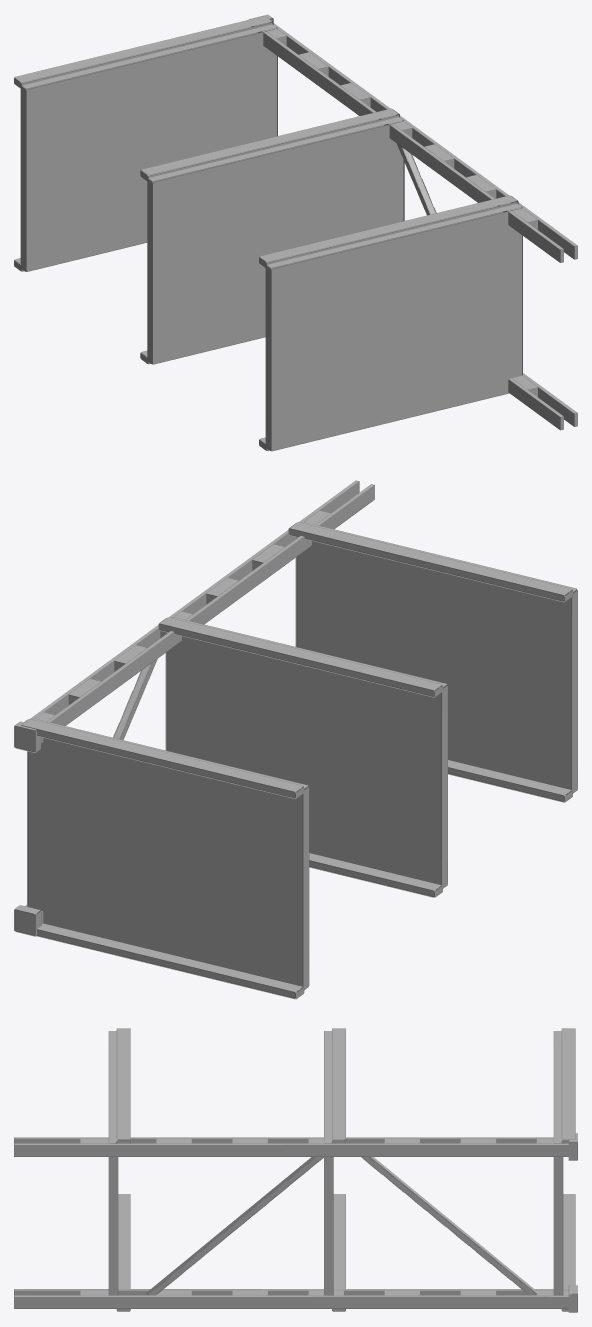
File: rack_right_empty.obj
3 views of the same model, one above another, from view 1: azimuth 30°, elevation 25°; view 2: azimuth 150°, elevation 25°; view 3: azimuth 270°, elevation 25° (orthographic). The views are drawn at different scales.
Visible parts, largest first — view 1: rack_right_empty; view 2: rack_right_empty; view 3: rack_right_empty.
Part boxes in pixels (bbox=[...]): rack_right_empty: bbox=[14, 14, 577, 451]; rack_right_empty: bbox=[14, 480, 577, 999]; rack_right_empty: bbox=[14, 1028, 577, 1312].
Bounding box in the file's own units: 0.934 × 0.66 × 1.97.
Materials: 1 (1 with a texture image).
